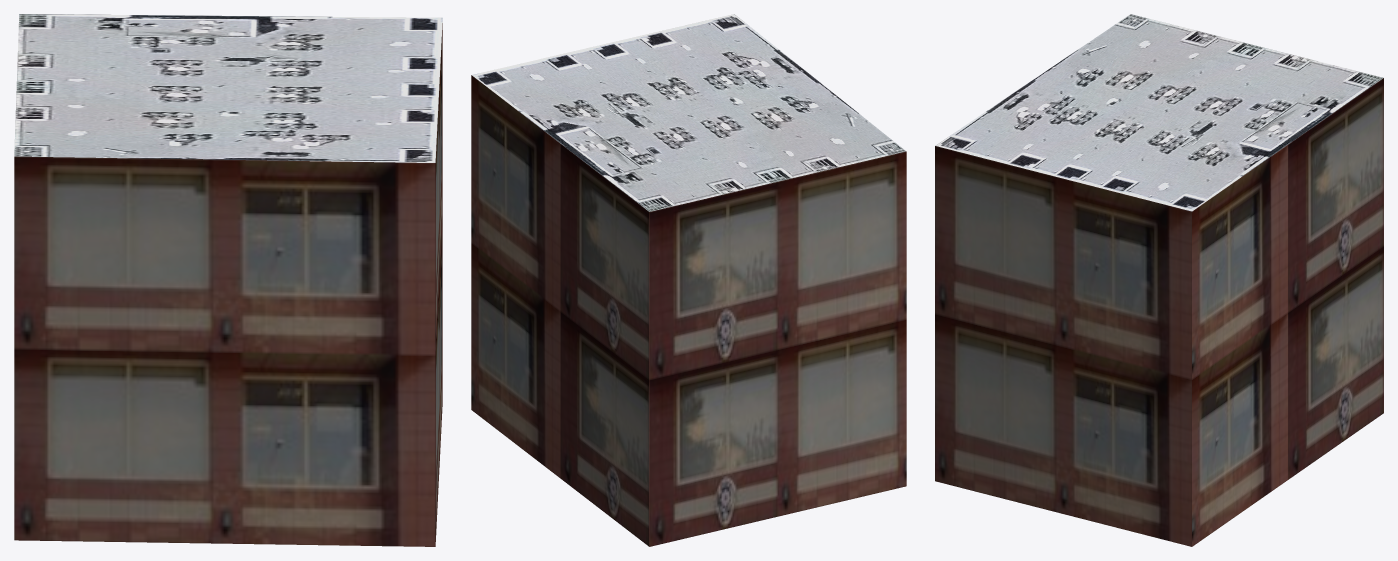
Rendered from ResTex__790.fbx.
3 renders of one model, left to right at view 1: azimuth 30°, elevation 25°; view 2: azimuth 150°, elevation 25°; view 3: azimuth 270°, elevation 25°, orthographic. The views are drawn at different scales.
Parts seen in each view (by area): view 1: CityEngineMaterial_13_m, CityEngineMaterial_2_m; view 2: CityEngineMaterial_13_m, CityEngineMaterial_2_m; view 3: CityEngineMaterial_13_m, CityEngineMaterial_2_m.
Part boxes in pixels (x1,y1,x2,y2): CityEngineMaterial_13_m: (14, 23, 442, 546); CityEngineMaterial_2_m: (14, 14, 442, 162); CityEngineMaterial_13_m: (471, 75, 906, 546); CityEngineMaterial_2_m: (472, 14, 906, 211); CityEngineMaterial_13_m: (935, 78, 1383, 546); CityEngineMaterial_2_m: (935, 14, 1383, 211).
Size of the model in its own units: 7.58 by 6 by 7.28.
Materials: 2 (2 with a texture image).
